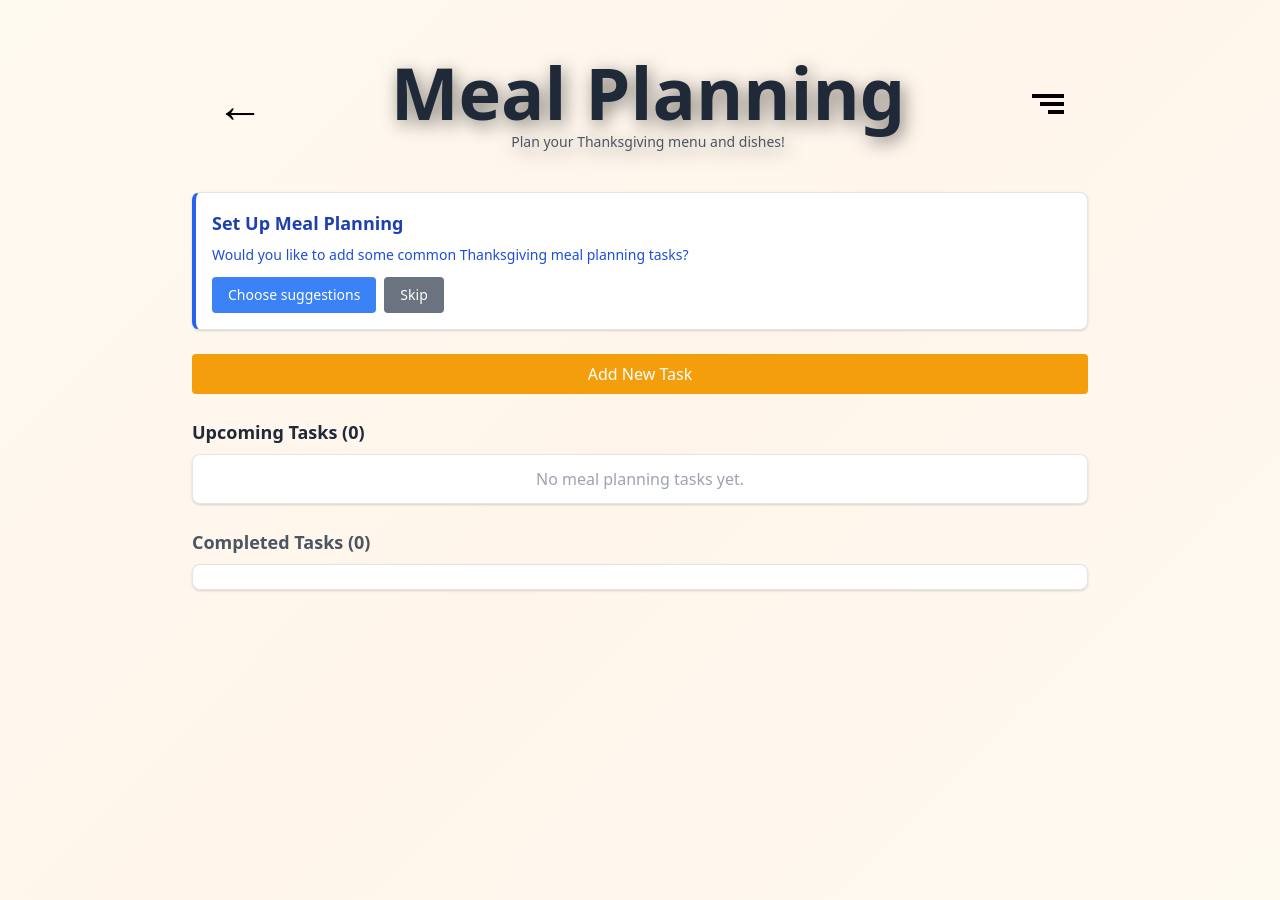
it: Thanksgiving meal planning suggestions › open a picker with every item ticked, and add them in the right category
The width and height of the screenshot is (1280, 900).
Click the button "Choose suggestions": (294, 295) [212,277,376,313]
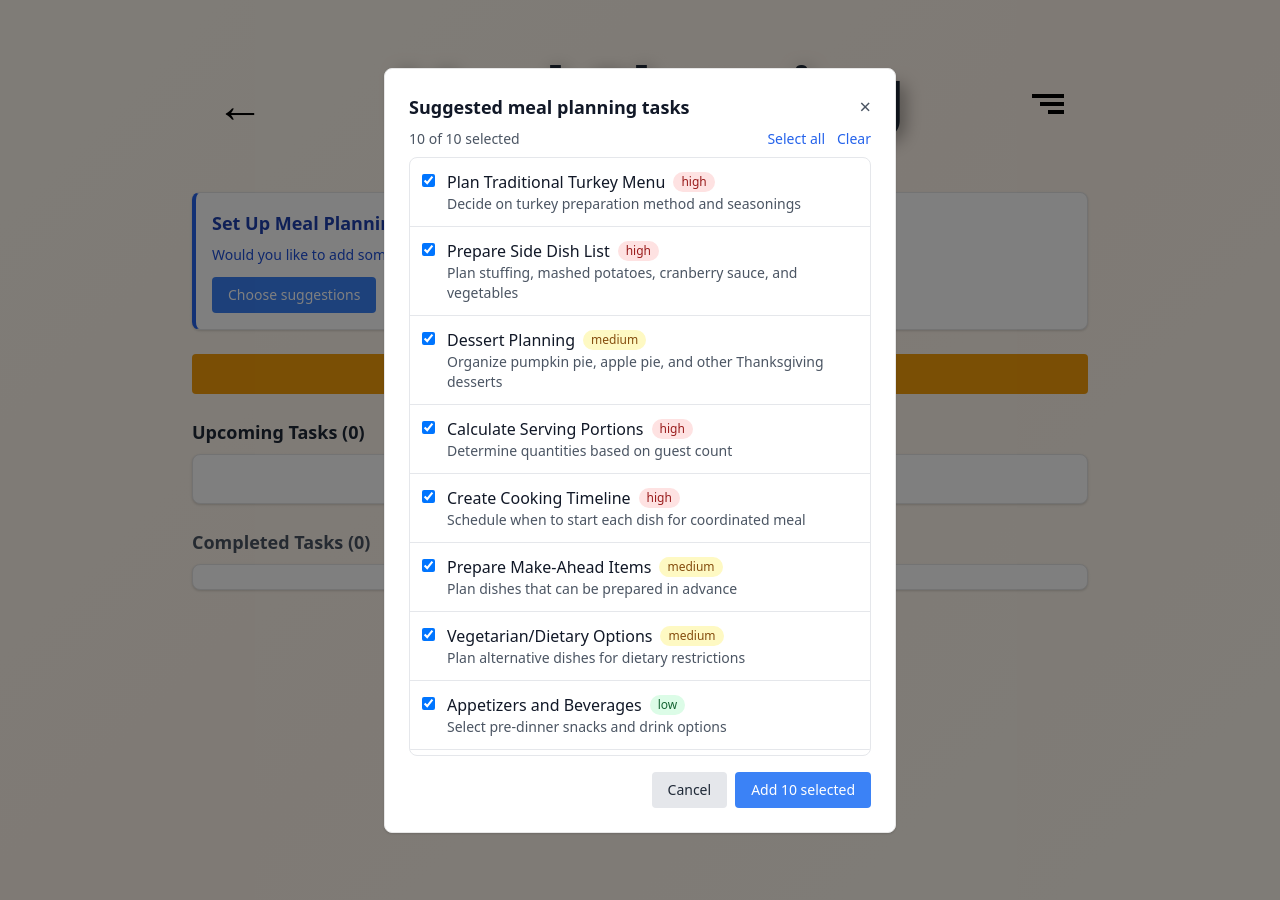
Expected: the dialog "Suggested meal planning tasks" is shown, [384,68,896,832]
Click the button "Add 10 selected": (803, 790) [735,772,871,808]
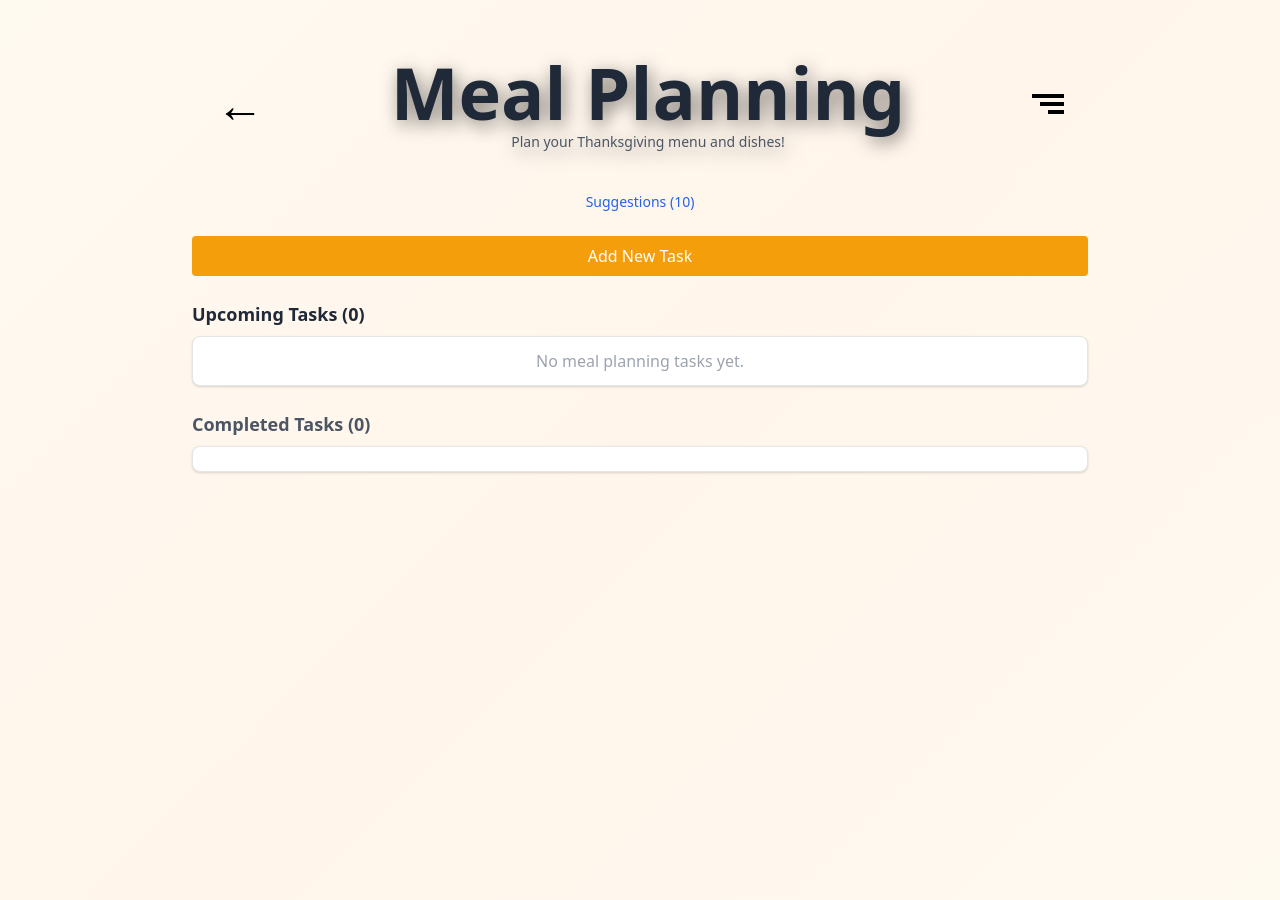
Expected: the heading "Meal Planning" is shown, [391,43,905,141]
Expected: the dialog is gone
Expected: the button "Choose suggestions" is gone
